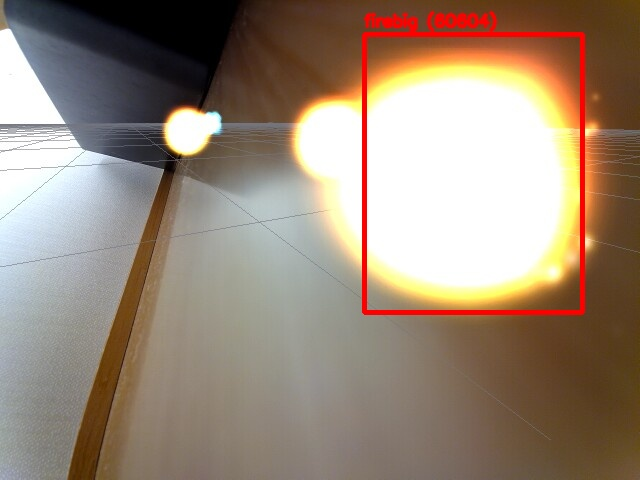firebig: (364, 34, 582, 312)
